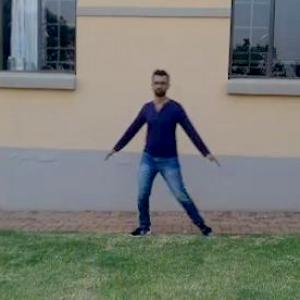land: (95, 65, 227, 240)
